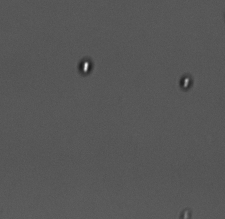Living Cell: (76, 57, 95, 76), (178, 73, 196, 90)
